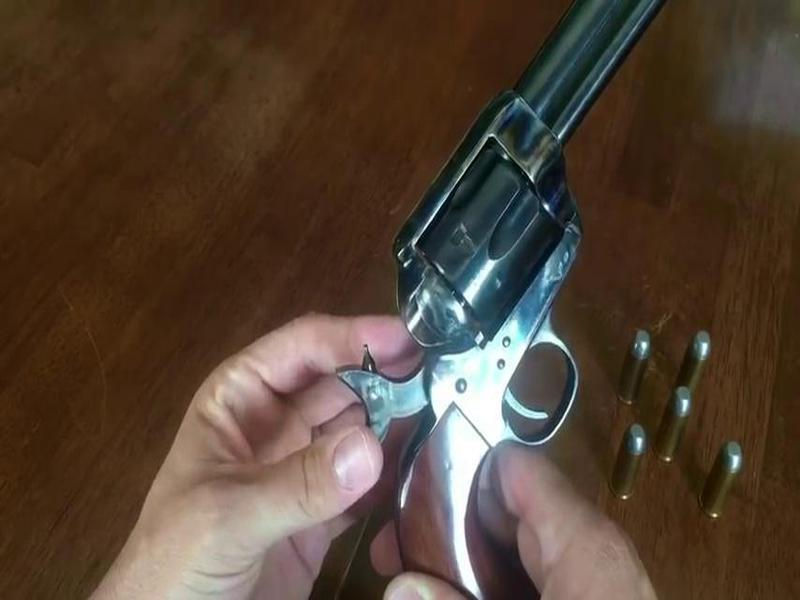Revolver: (394, 26, 708, 600)
